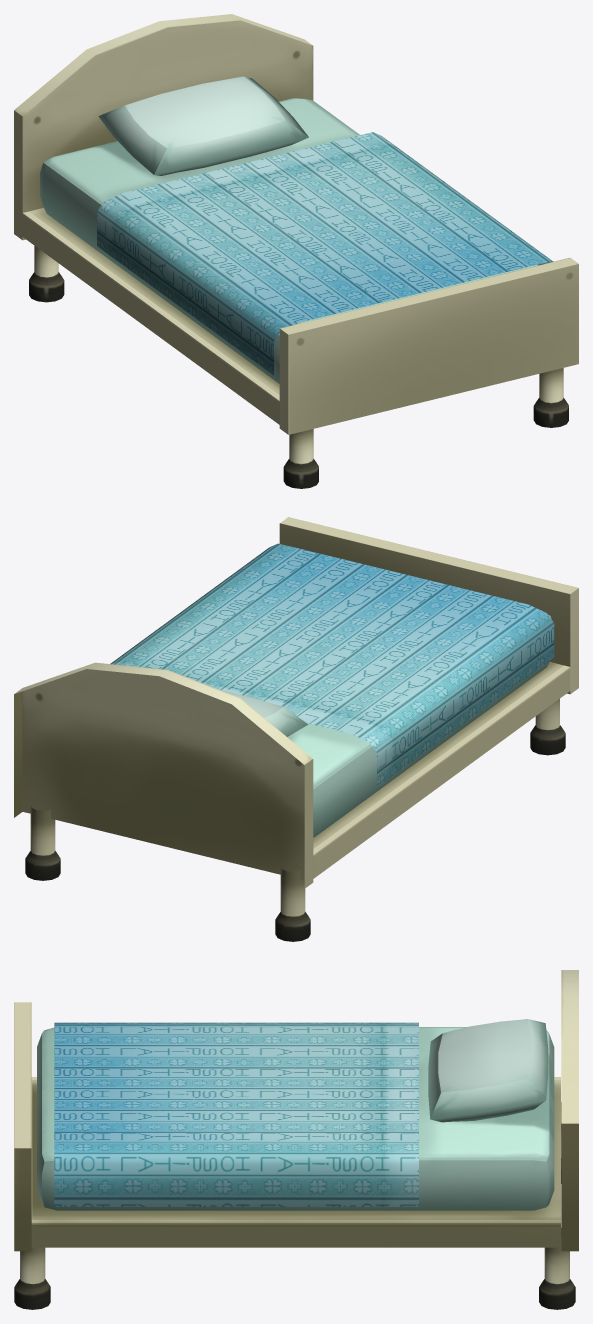
Rendered from Bed.FBX.
3 views of the same model, one above another, from view 1: azimuth 30°, elevation 25°; view 2: azimuth 150°, elevation 25°; view 3: azimuth 270°, elevation 25° (orthographic). The views are drawn at different scales.
Visible parts, largest first — view 1: Box081; view 2: Box081; view 3: Box081.
Boxes of the visible parts, bbox=[...] form: Box081: bbox=[14, 14, 578, 488]; Box081: bbox=[14, 517, 578, 941]; Box081: bbox=[14, 970, 578, 1309].
Size of the model in its own units: 11.5 by 8.92 by 18.81.
